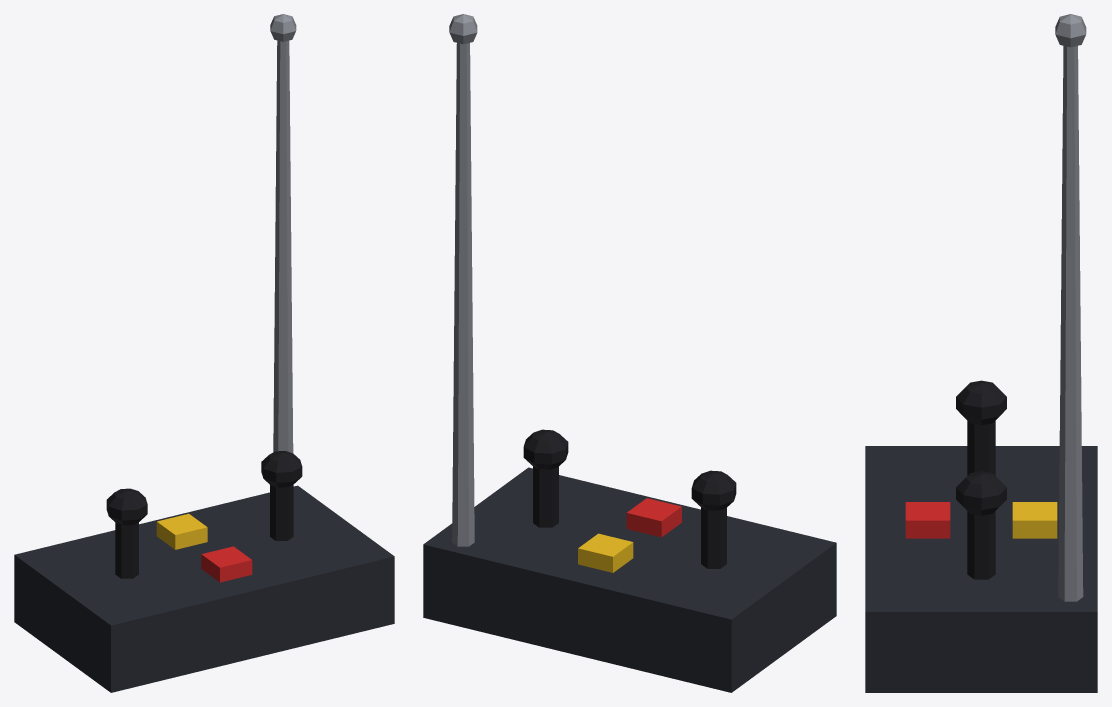
The model's file is rc_remote.glb.
3 views of the same model, side by side, from view 1: azimuth 30°, elevation 25°; view 2: azimuth 150°, elevation 25°; view 3: azimuth 270°, elevation 25° (orthographic). The views are drawn at different scales.
Visible parts, largest first — view 1: body_rc_body, antenna_steel, body_rc_black, body_rc_button, body_rc_yellow; view 2: body_rc_body, antenna_steel, body_rc_black, body_rc_yellow, body_rc_button; view 3: body_rc_body, antenna_steel, body_rc_black, body_rc_button, body_rc_yellow.
Part boxes in pixels (x1,y1,x2,y2): body_rc_body: [14, 485, 394, 692]; antenna_steel: [270, 14, 296, 453]; body_rc_black: [106, 451, 302, 578]; body_rc_button: [201, 546, 252, 582]; body_rc_yellow: [156, 513, 207, 549]; body_rc_body: [423, 467, 836, 692]; antenna_steel: [449, 14, 477, 546]; body_rc_black: [523, 429, 736, 568]; body_rc_yellow: [578, 533, 633, 572]; body_rc_button: [626, 498, 681, 537]; body_rc_body: [865, 446, 1097, 692]; antenna_steel: [1055, 14, 1086, 601]; body_rc_black: [956, 380, 1006, 579]; body_rc_button: [905, 502, 950, 538]; body_rc_yellow: [1012, 502, 1057, 538].
Bounding box in the file's own units: 0.22 × 0.41 × 0.13.
